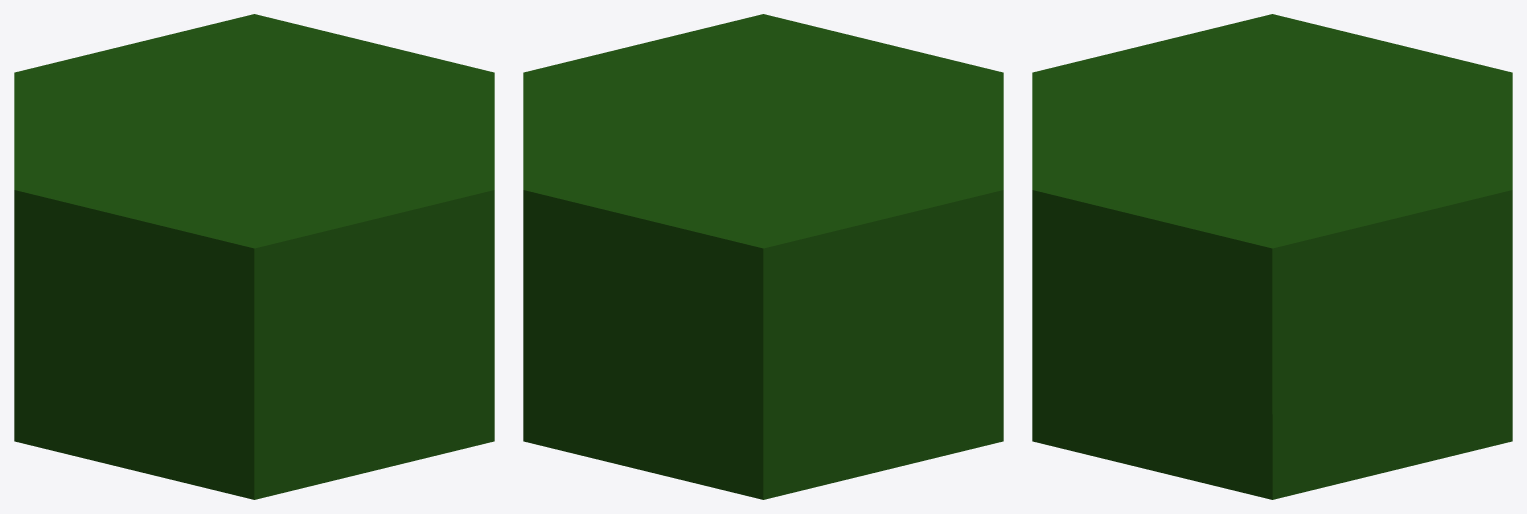
The model's file is HexDarkGreen.fbx.
The picture shows the model from 3 angles, left to right: view 1: azimuth 30°, elevation 25°; view 2: azimuth 150°, elevation 25°; view 3: azimuth 270°, elevation 25°; orthographic projection.
Visible parts, largest first — view 1: pCylinder1; view 2: pCylinder1; view 3: pCylinder1.
Part boxes in pixels (x1,y1,x2,y2): pCylinder1: (14, 14, 494, 499); pCylinder1: (523, 14, 1003, 499); pCylinder1: (1032, 14, 1512, 499).
Bounding box in the file's own units: 2 × 1 × 1.73.
Materials: 1 (1 with a texture image).
